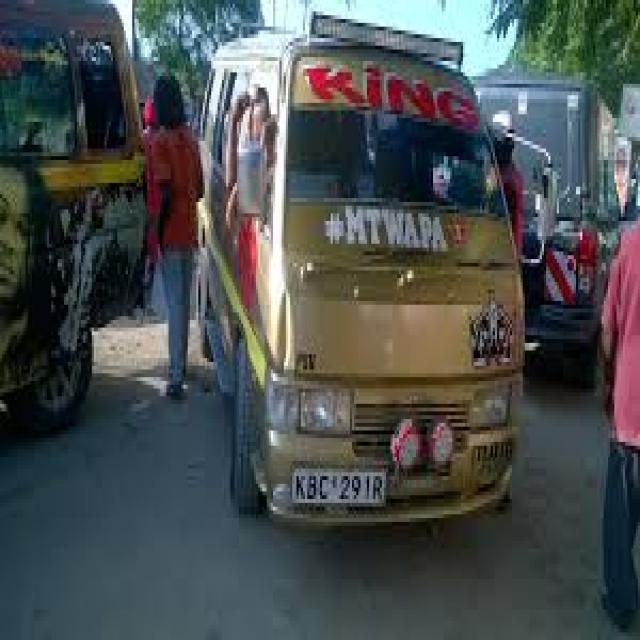matatu: (180, 10, 572, 580)
